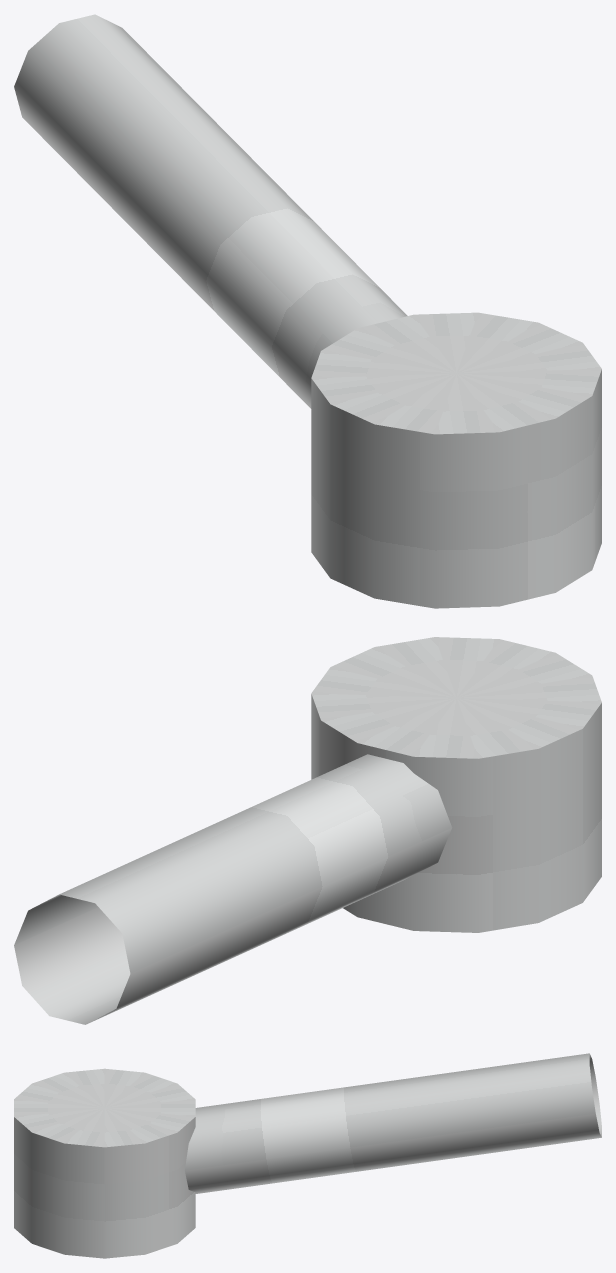
File: trusssignalarm_level8_c1_thin.obj
3 renders of one model, top to bottom at view 1: azimuth 30°, elevation 25°; view 2: azimuth 150°, elevation 25°; view 3: azimuth 270°, elevation 25°, orthographic. The views are drawn at different scales.
Visible parts, largest first — view 1: trusssignalarm_level8_c1_thin; view 2: trusssignalarm_level8_c1_thin; view 3: trusssignalarm_level8_c1_thin.
Boxes of the visible parts, x1,y1,x2,y2 form: trusssignalarm_level8_c1_thin: [14, 14, 601, 608]; trusssignalarm_level8_c1_thin: [14, 637, 601, 1024]; trusssignalarm_level8_c1_thin: [14, 1053, 601, 1258].
Size of the model in its own units: 0.5688 by 0.5406 by 1.8.
